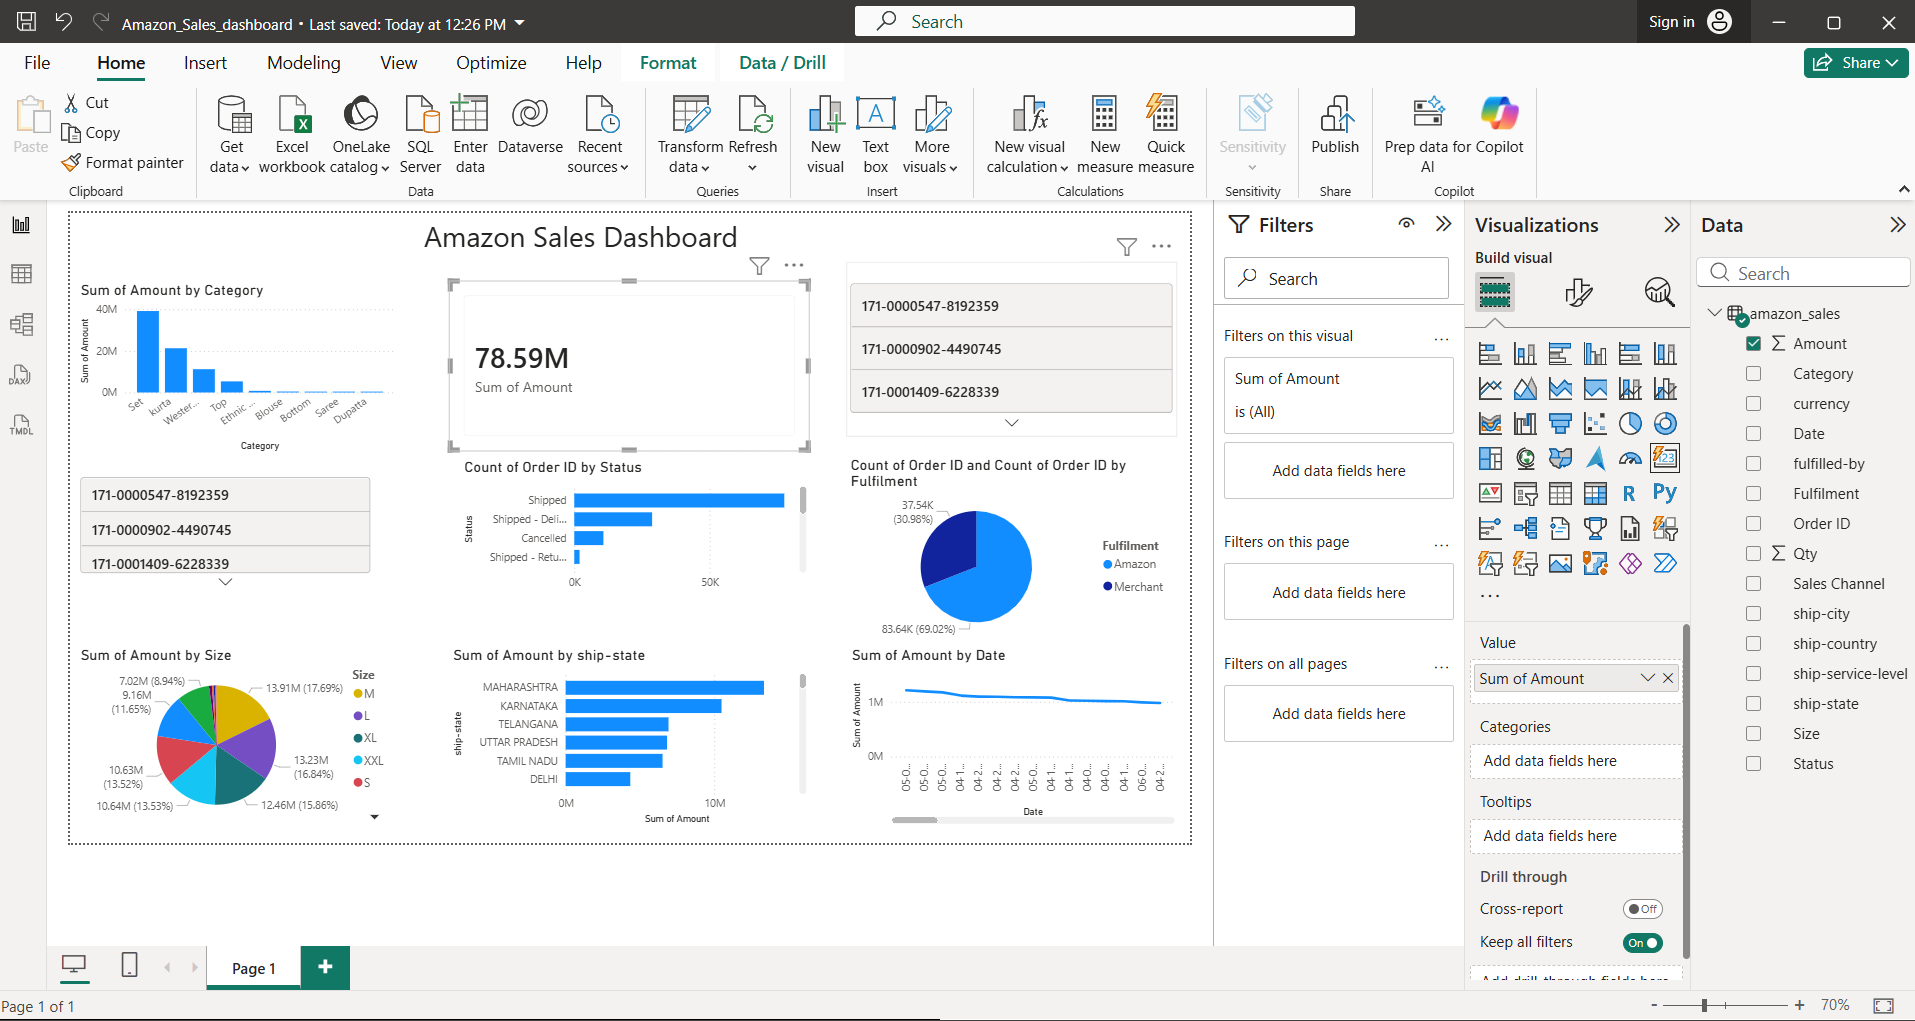

What the dashboard file says about the page in this screenshot:
{"tool":"powerbi","page":{"name":"Page 1","canvas":[1280,720],"ordinal":0},"visuals":[{"type":"clusteredColumnChart","fields":{"Category":["amazon_sales.Category"],"Y":["Sum(amazon_sales.Amount)"]},"box":[7.5,77.5,368.8,200],"z":0},{"type":"pieChart","fields":{"Category":["amazon_sales.Size"],"Y":["Sum(amazon_sales.Amount)"]},"box":[7.5,493.8,368.8,208.8],"z":1000},{"type":"cardVisual","fields":{"Data":["Sum(amazon_sales.Amount)"]},"box":[432.5,77.5,413.8,195],"z":2000},{"type":"cardVisual","fields":{"Rows":["amazon_sales.Order ID"]},"box":[887.5,56.2,378.8,200],"z":3000},{"type":"clusteredBarChart","fields":{"Category":["amazon_sales.Status"],"Y":["CountNonNull(amazon_sales.Order ID)"]},"box":[445,280,401.2,160],"z":4000},{"type":"clusteredBarChart","fields":{"Category":["amazon_sales.ship-state"],"Y":["Sum(amazon_sales.Amount)"]},"box":[432.5,493.8,413.8,208.8],"z":5000},{"type":"pieChart","fields":{"Y":["CountNonNull(amazon_sales.Order ID)","CountNonNull(amazon_sales.Order ID)"],"Category":["amazon_sales.Fulfilment","amazon_sales.Sales Channel "]},"box":[887.5,277.5,378.8,216.2],"z":6000},{"type":"cardVisual","fields":{"Rows":["amazon_sales.Order ID"]},"box":[7.5,277.5,341.2,160],"z":7000},{"type":"textbox","box":[12.5,0,1142.5,56.2],"z":8000},{"type":"lineChart","fields":{"Category":["amazon_sales.Date"],"Y":["Sum(amazon_sales.Amount)"]},"box":[888,494,379,209],"z":8001}]}

Visuals, with their boxes on the page's 1280x720 design canvas (x1, y1, x2, y2). These are canvas units, not pixel positions in the 1915x1021 screenshot, which may show the page scaled, cropped or inside an application window:
clusteredColumnChart - amazon_sales.Category x Sum(amazon_sales.Amount): bbox=[8, 78, 376, 278]
pieChart - amazon_sales.Size x Sum(amazon_sales.Amount): bbox=[8, 494, 376, 703]
cardVisual - Sum(amazon_sales.Amount): bbox=[432, 78, 846, 272]
cardVisual - amazon_sales.Order ID: bbox=[888, 56, 1266, 256]
clusteredBarChart - amazon_sales.Status x CountNonNull(amazon_sales.Order ID): bbox=[445, 280, 846, 440]
clusteredBarChart - amazon_sales.ship-state x Sum(amazon_sales.Amount): bbox=[432, 494, 846, 703]
pieChart - CountNonNull(amazon_sales.Order ID) x CountNonNull(amazon_sales.Order ID): bbox=[888, 278, 1266, 494]
cardVisual - amazon_sales.Order ID: bbox=[8, 278, 349, 438]
textbox: bbox=[12, 0, 1155, 56]
lineChart - amazon_sales.Date x Sum(amazon_sales.Amount): bbox=[888, 494, 1267, 703]
